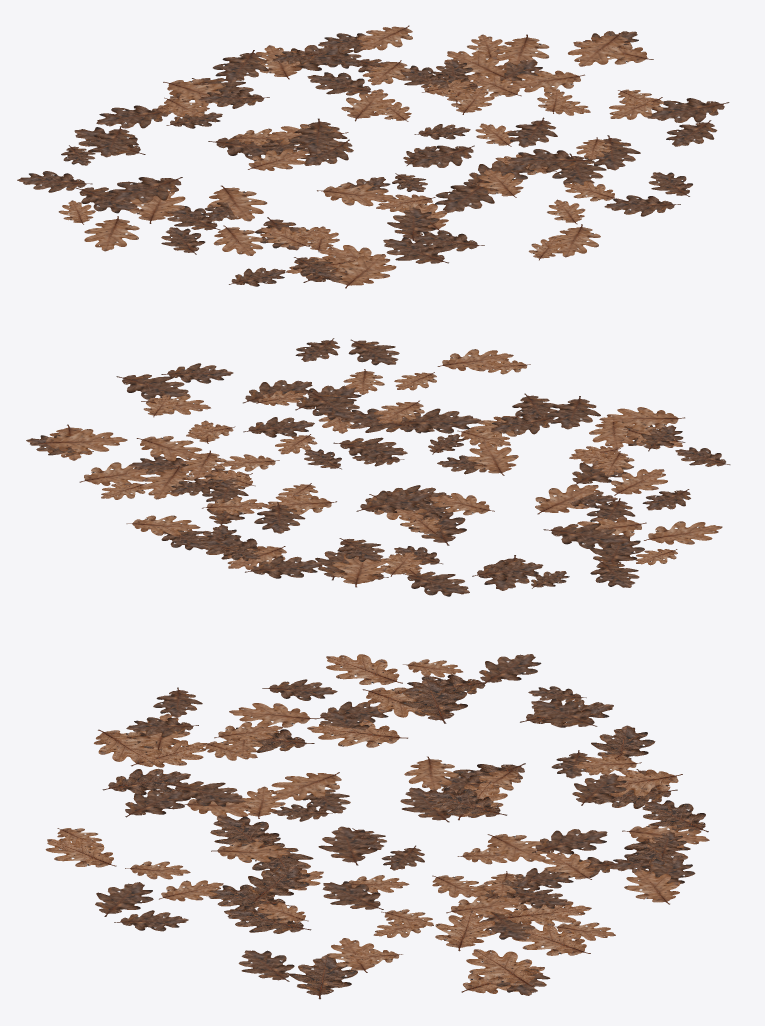
File: Oak_LeafLitter_Patch_01_LOD2.fbx
3 views of the same model, one above another, from view 1: azimuth 30°, elevation 25°; view 2: azimuth 150°, elevation 25°; view 3: azimuth 270°, elevation 25° (orthographic). The views are drawn at different scales.
Parts seen in each view (by area): view 1: Oak_LeafLitter_Patch_01_LOD2_Mesh; view 2: Oak_LeafLitter_Patch_01_LOD2_Mesh; view 3: Oak_LeafLitter_Patch_01_LOD2_Mesh.
Boxes of the visible parts, x1,y1,x2,y2 form: Oak_LeafLitter_Patch_01_LOD2_Mesh: (17,25,729,288); Oak_LeafLitter_Patch_01_LOD2_Mesh: (26,338,730,596); Oak_LeafLitter_Patch_01_LOD2_Mesh: (45,654,709,999).
Size of the model in its own units: 143 by 1.45 by 119.
Materials: 1 (1 with a texture image).
